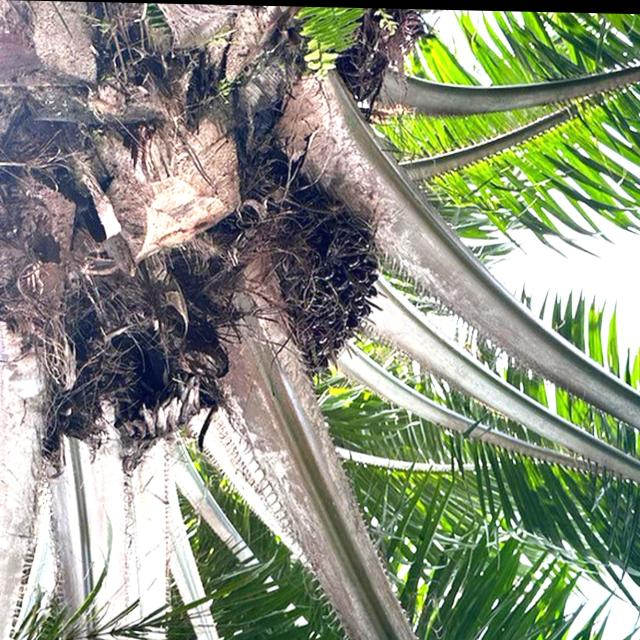almost: (276, 202, 386, 384)
